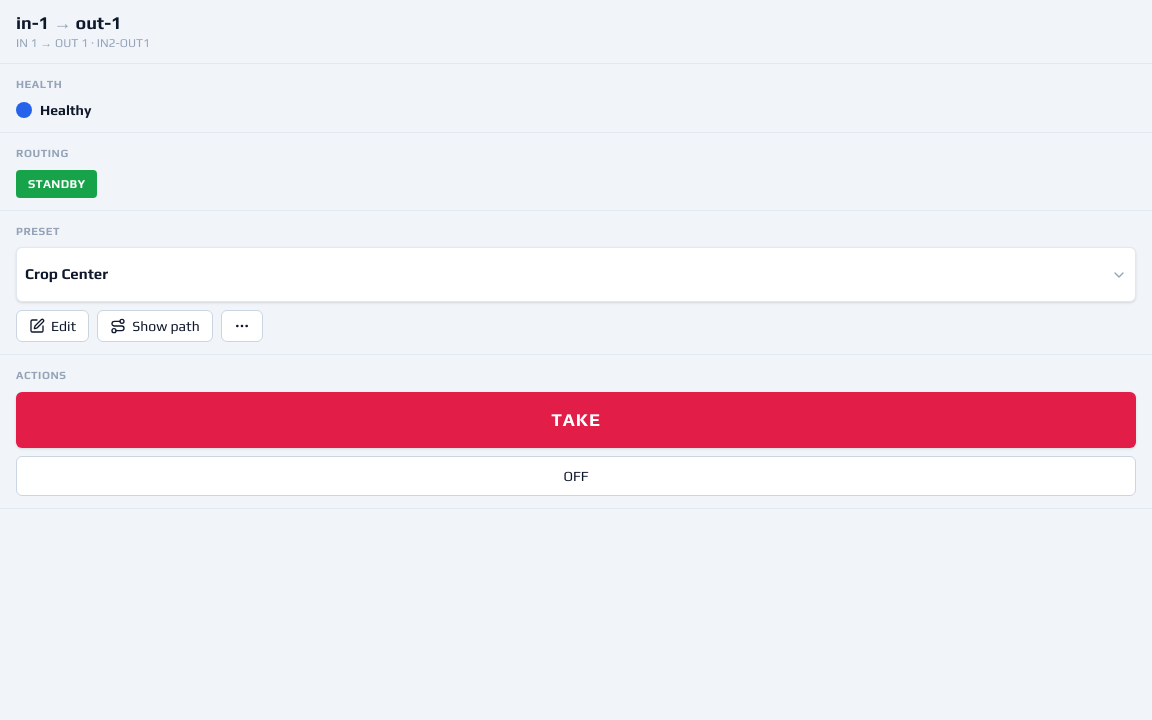
Test: crosspoint context menu › opens from the inspector [...] button
Step 1. Click the button named "More actions" → x=242, y=326, box [221, 310, 263, 342]
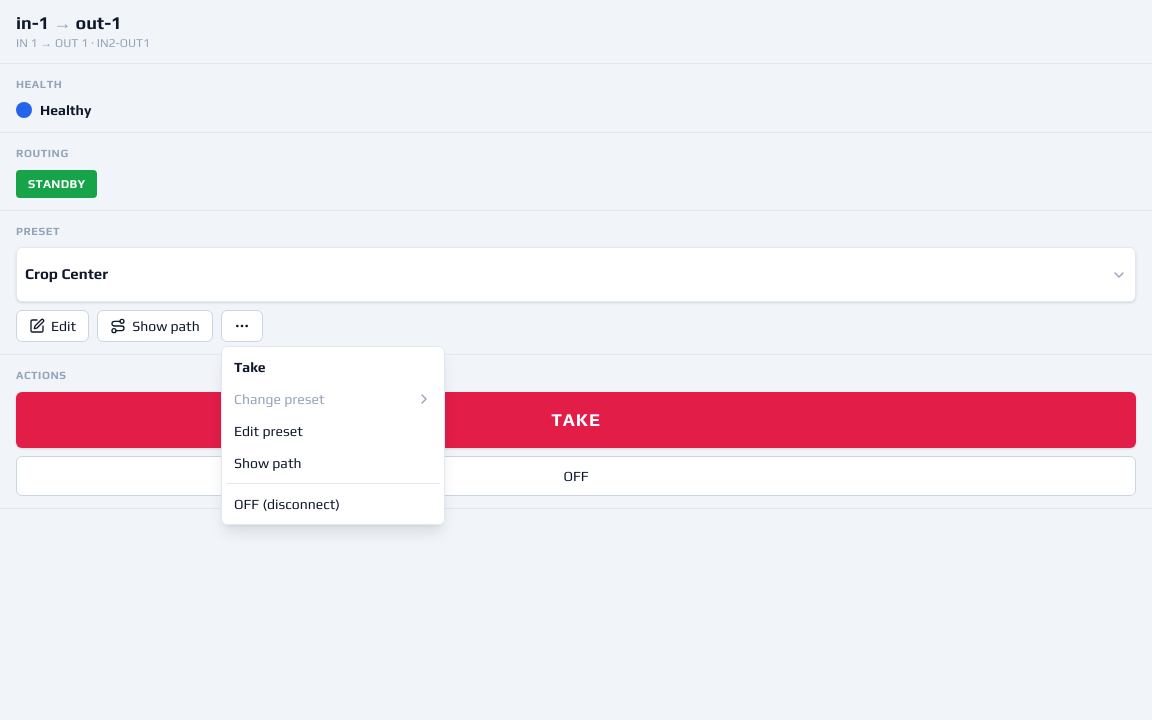
Expected: the menu named "Crosspoint actions" is shown, [221, 346, 445, 525]
Expected: the menu item "Take" is shown, [234, 359, 266, 375]
